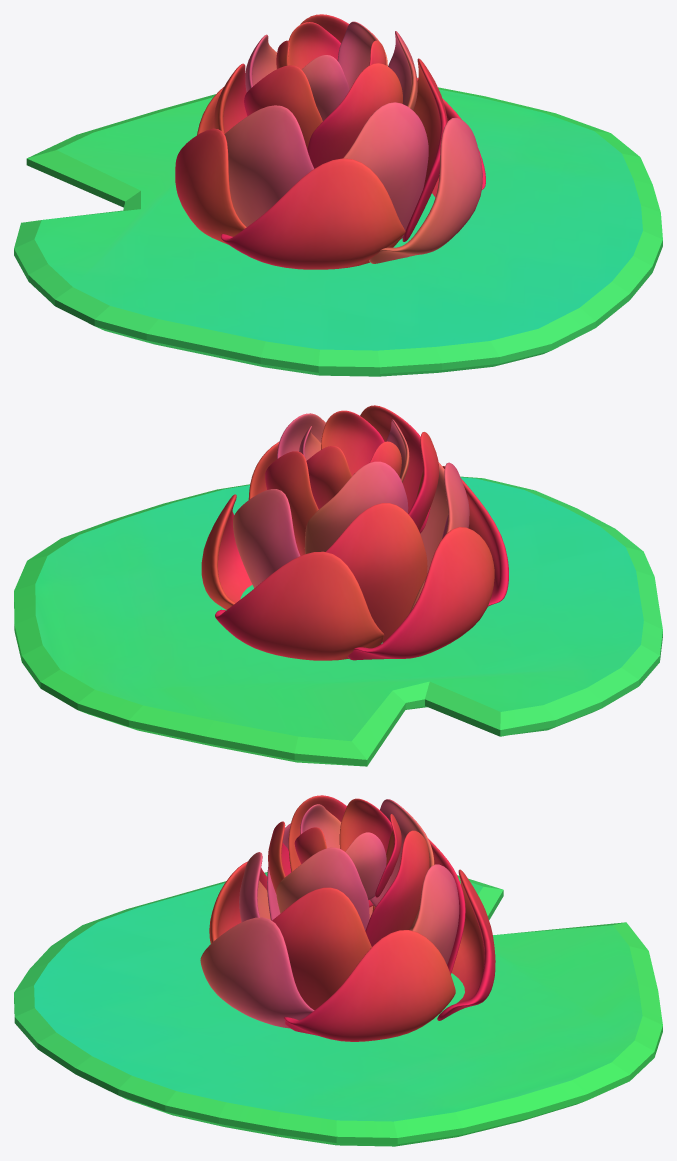
File: LillyPadWithFlower.fbx
The picture shows the model from 3 angles, top to bottom: view 1: azimuth 30°, elevation 25°; view 2: azimuth 150°, elevation 25°; view 3: azimuth 270°, elevation 25°; orthographic projection. The views are drawn at different scales.
Visible parts, largest first — view 1: Cylinder, Plane.017; view 2: Cylinder, Plane.017; view 3: Cylinder, Plane.017.
Boxes of the visible parts, x1,y1,x2,y2 form: Cylinder: [14, 87, 662, 376]; Plane.017: [175, 14, 485, 269]; Cylinder: [14, 476, 662, 766]; Plane.017: [201, 405, 508, 660]; Cylinder: [14, 872, 662, 1146]; Plane.017: [200, 795, 495, 1041].
Size of the model in its own units: 208 by 69.32 by 209.
